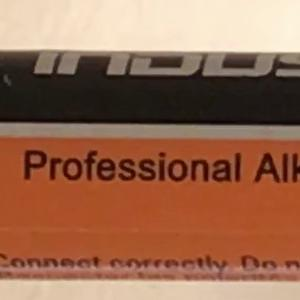keyword: (244, 143, 299, 193)
